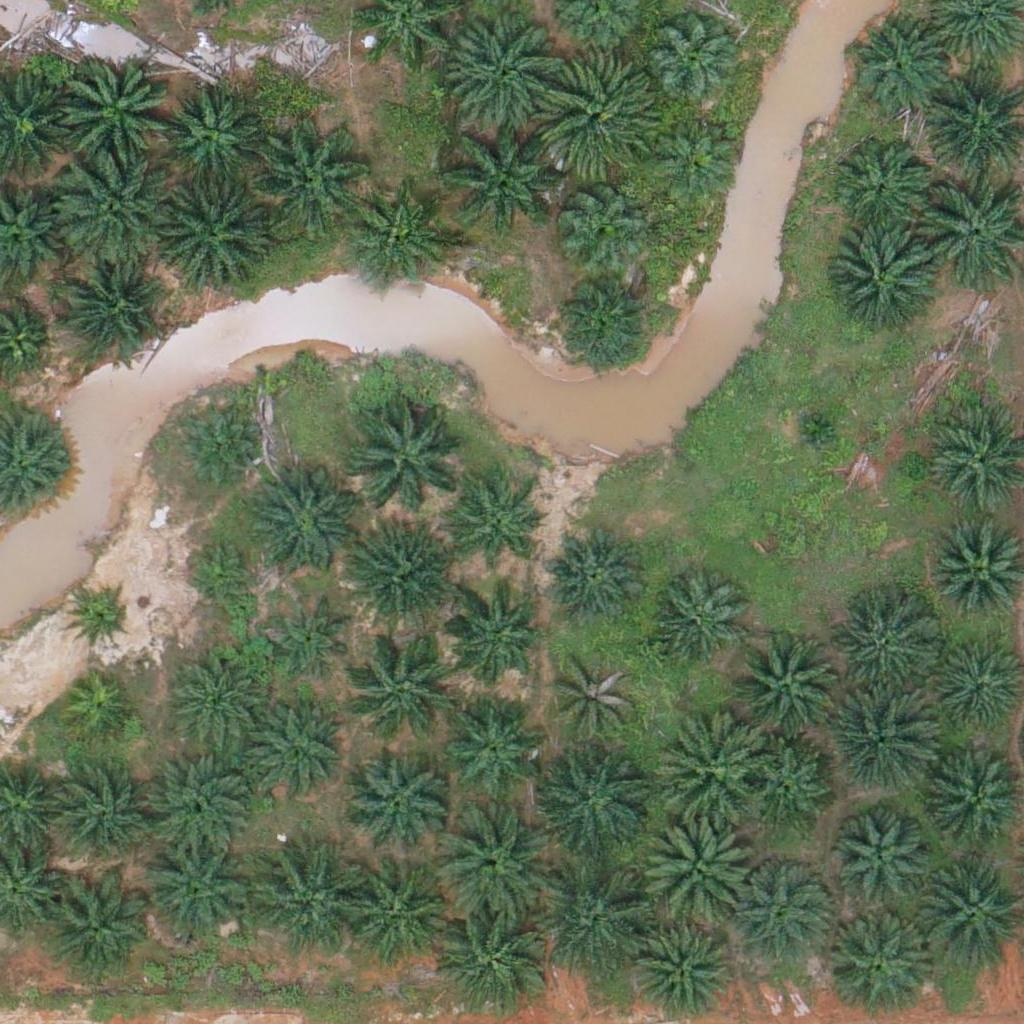Kelapa_Sawit: (826, 906, 939, 1020), (153, 178, 266, 292), (824, 227, 937, 340), (825, 685, 938, 798), (437, 906, 550, 1019), (350, 396, 463, 509), (244, 469, 357, 582), (142, 747, 255, 860), (139, 835, 252, 948), (41, 874, 154, 987), (541, 57, 654, 170), (349, 627, 461, 741), (247, 844, 359, 958), (453, 18, 565, 132), (730, 629, 842, 742), (653, 712, 765, 825), (640, 810, 752, 923), (542, 865, 654, 978), (538, 744, 650, 857), (442, 120, 554, 233), (436, 806, 548, 919), (337, 863, 449, 976), (340, 524, 452, 637), (253, 120, 365, 233), (61, 153, 173, 266), (60, 57, 172, 170), (831, 137, 931, 238), (831, 815, 931, 916), (732, 859, 832, 960), (646, 570, 746, 671), (442, 590, 542, 691), (344, 752, 444, 853), (244, 703, 344, 804), (52, 769, 152, 870), (160, 84, 260, 185), (850, 17, 950, 118), (834, 600, 934, 700), (631, 922, 731, 1022), (552, 272, 652, 372), (543, 525, 643, 625), (442, 694, 542, 794), (349, 193, 449, 293), (59, 258, 159, 358), (167, 651, 267, 751), (742, 743, 830, 831), (556, 179, 644, 267), (267, 597, 355, 685), (172, 405, 260, 493), (653, 114, 741, 202), (552, 656, 639, 744), (454, 486, 541, 574), (651, 22, 738, 110), (184, 536, 259, 611), (60, 674, 135, 749), (69, 587, 132, 650), (789, 402, 839, 453)
